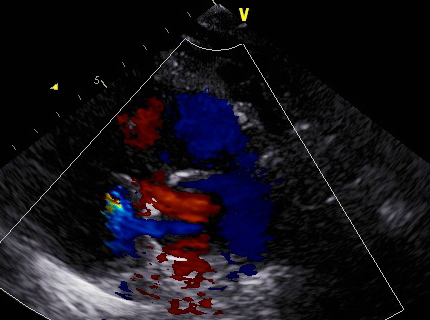TR: (94, 173, 149, 235)
